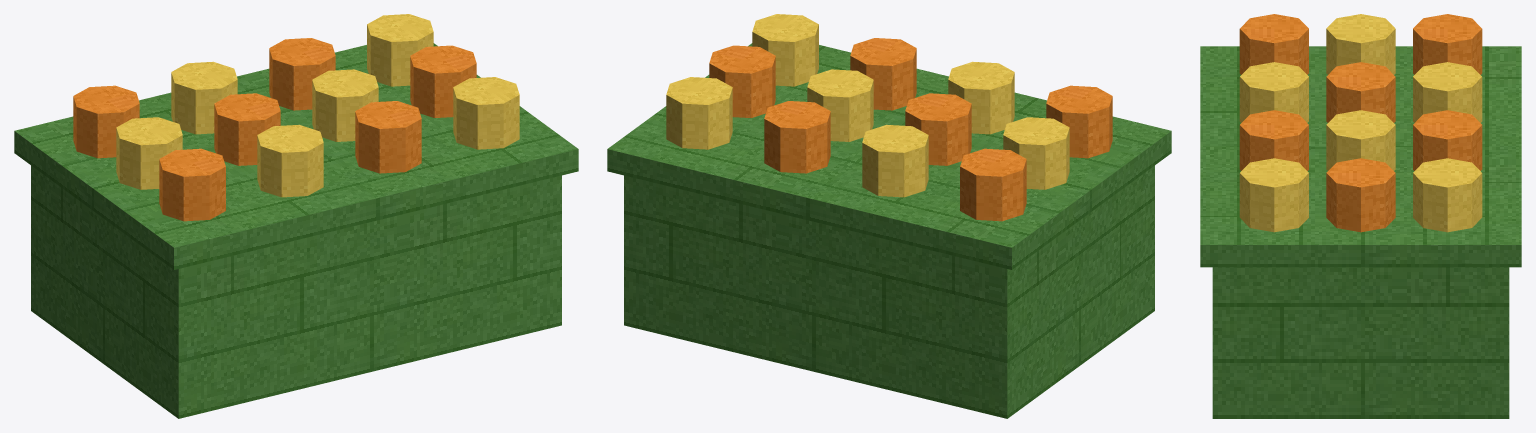
The picture shows the model from 3 angles, left to right: view 1: azimuth 30°, elevation 25°; view 2: azimuth 150°, elevation 25°; view 3: azimuth 270°, elevation 25°; orthographic projection.
Visible parts, largest first — view 1: Decor_produce_table_citrus; view 2: Decor_produce_table_citrus; view 3: Decor_produce_table_citrus.
Part boxes in pixels (x1=…): Decor_produce_table_citrus: x1=14, y1=14, x2=578, y2=418; Decor_produce_table_citrus: x1=607, y1=14, x2=1171, y2=418; Decor_produce_table_citrus: x1=1200, y1=14, x2=1521, y2=418.
Bounding box in the file's own units: 1.9 × 1 × 1.3.
Materials: 3 (3 with a texture image).
